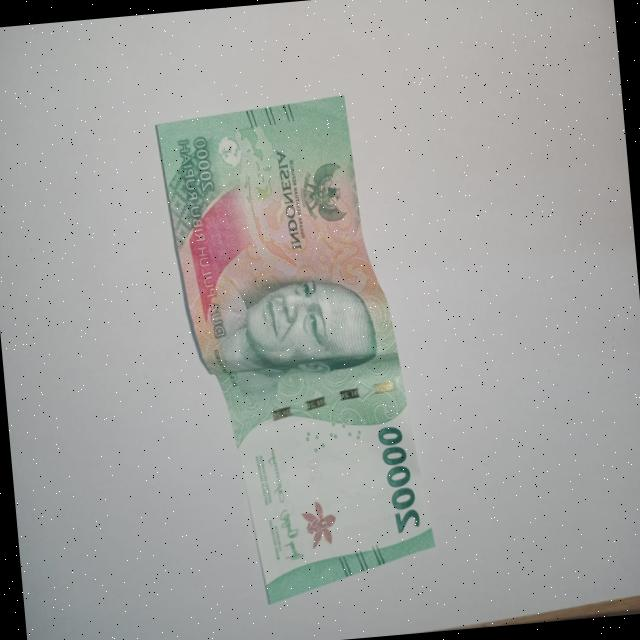20K: (147, 79, 443, 616)
